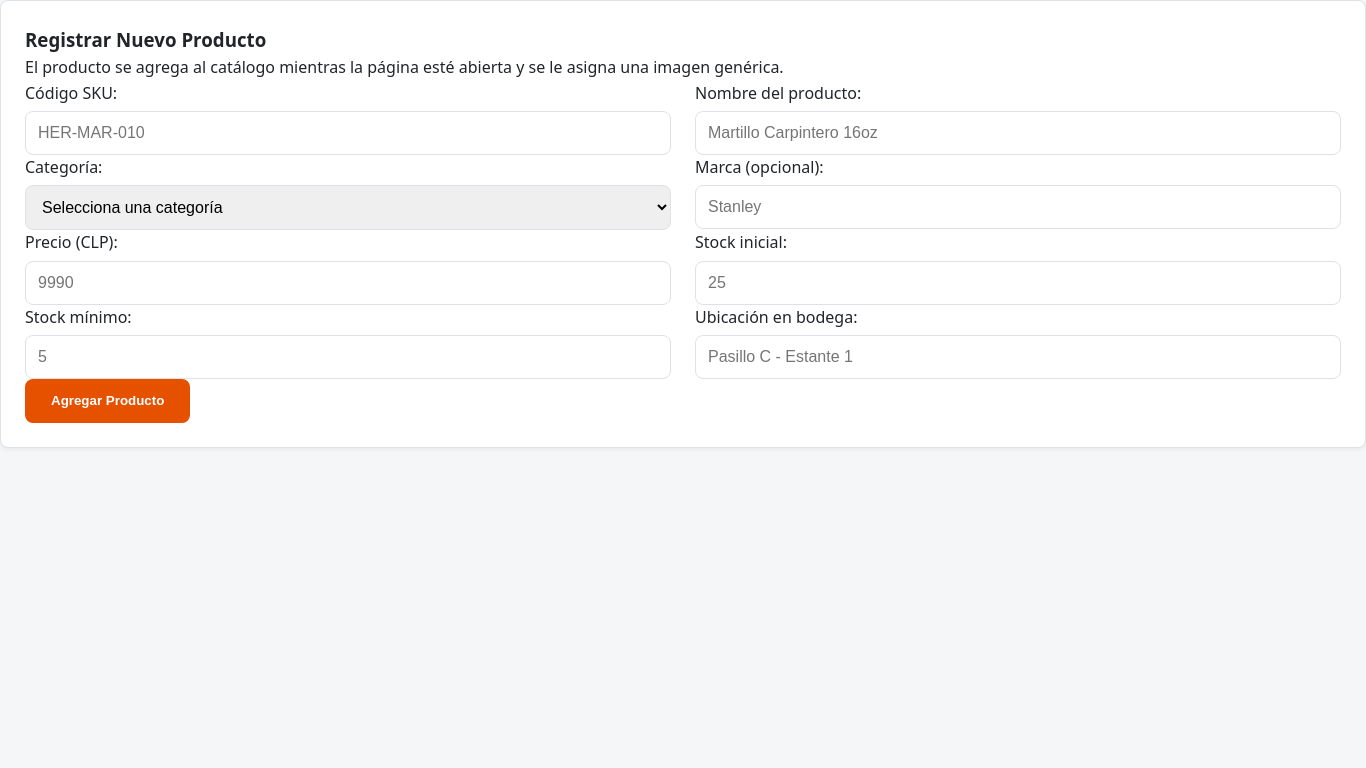
Test: FormularioProducto › muestra errores y no agrega nada cuando el formulario está vacío
Click the button "Agregar Producto" at point(108, 401), box [25, 379, 190, 423]
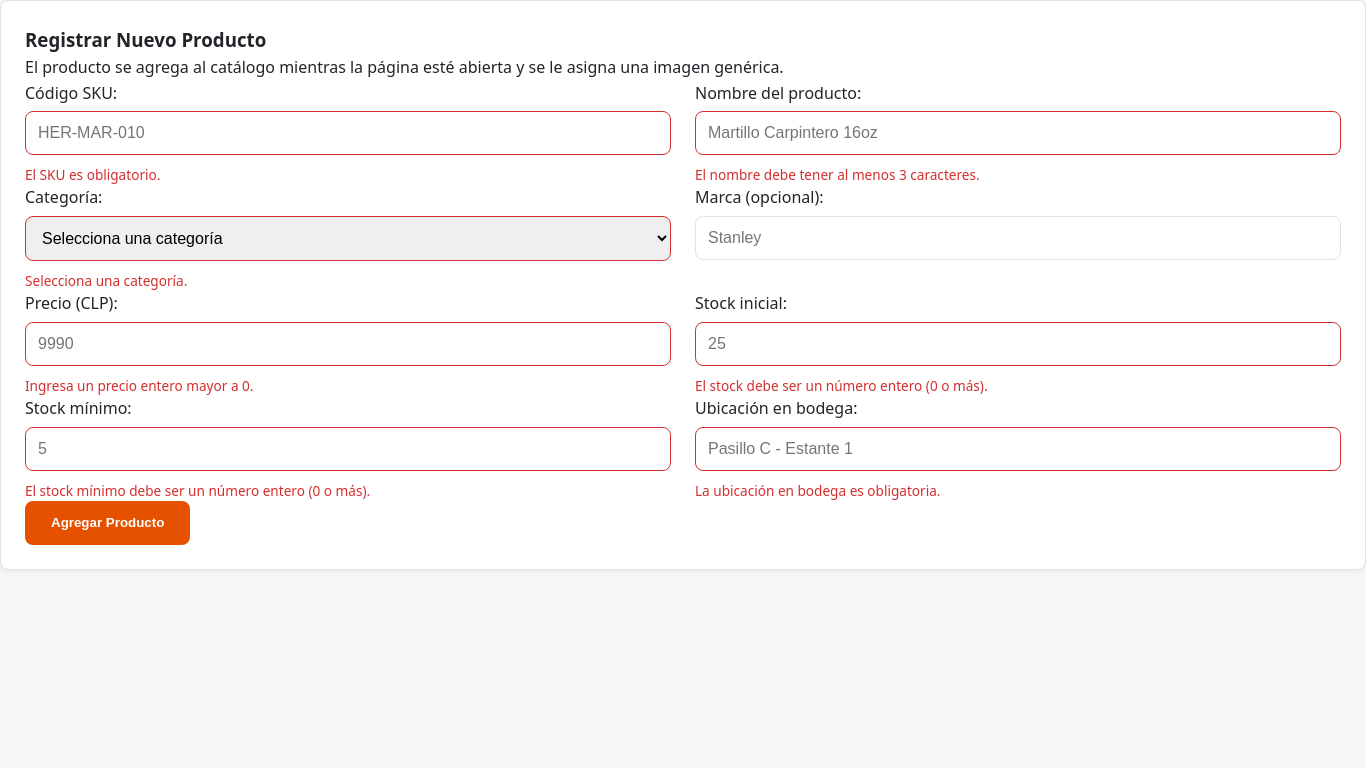
Result: the text "El SKU es obligatorio." is shown at [25, 165, 160, 184]
Result: the text "Selecciona una categoría." is shown at [25, 271, 187, 290]
